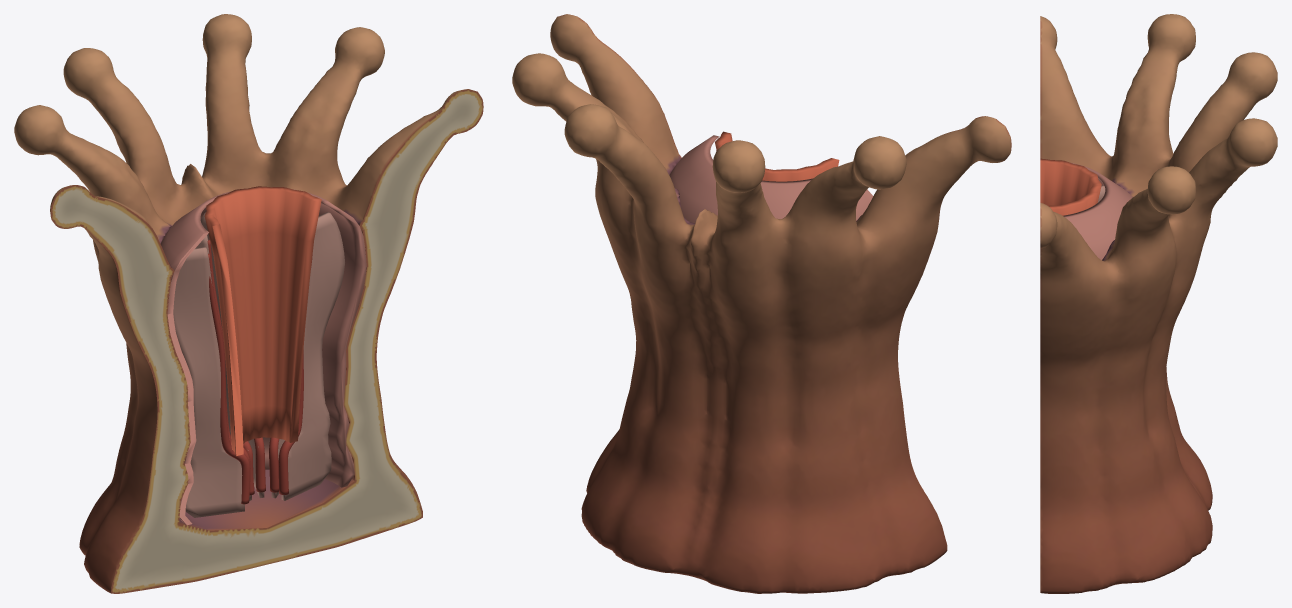
The model's file is polyp_sliced.glb.
3 views of the same model, side by side, from view 1: azimuth 30°, elevation 25°; view 2: azimuth 150°, elevation 25°; view 3: azimuth 270°, elevation 25° (orthographic). The views are drawn at different scales.
Visible parts, largest first — view 1: Digestive_Filaments_lite; view 2: Digestive_Filaments_lite; view 3: Digestive_Filaments_lite.
Boxes of the visible parts, x1,y1,x2,y2 form: Digestive_Filaments_lite: (14, 14, 483, 593); Digestive_Filaments_lite: (512, 14, 1011, 593); Digestive_Filaments_lite: (1040, 14, 1277, 593).
Size of the model in its own units: 1.23 by 1.22 by 0.5983.
